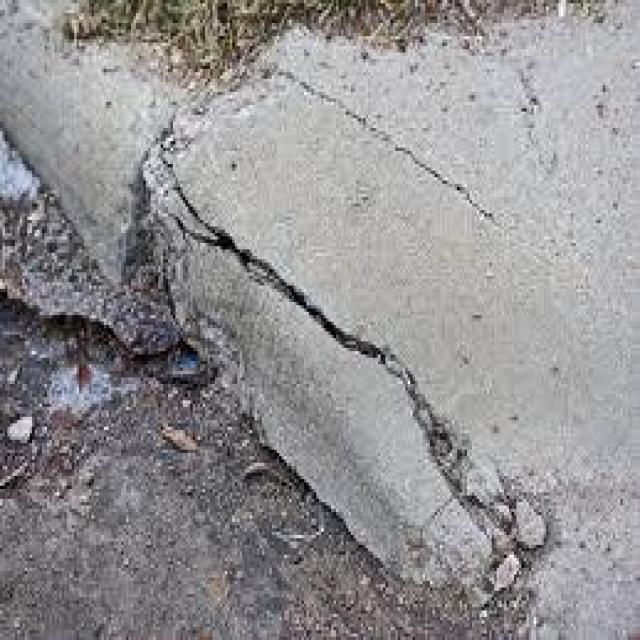curb: (1, 1, 634, 626)
